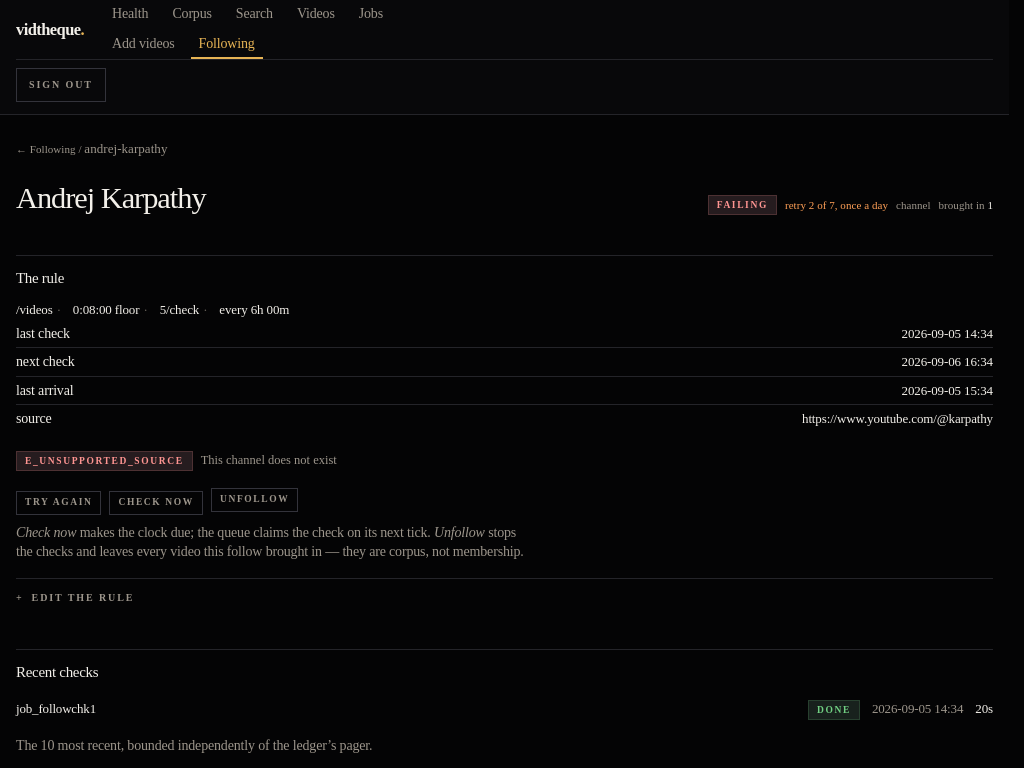
Test: one follow's page › the five writes › spells the retry out beside the state, and offers Check now to a retrying follow
Expected: the heading "Andrej Karpathy" is shown, [16,183,206,214]
Expected: the text "2026-09-06 16:34" is shown, [902,353,993,371]
Click the button "Check now": (156, 503) [109,491,203,515]
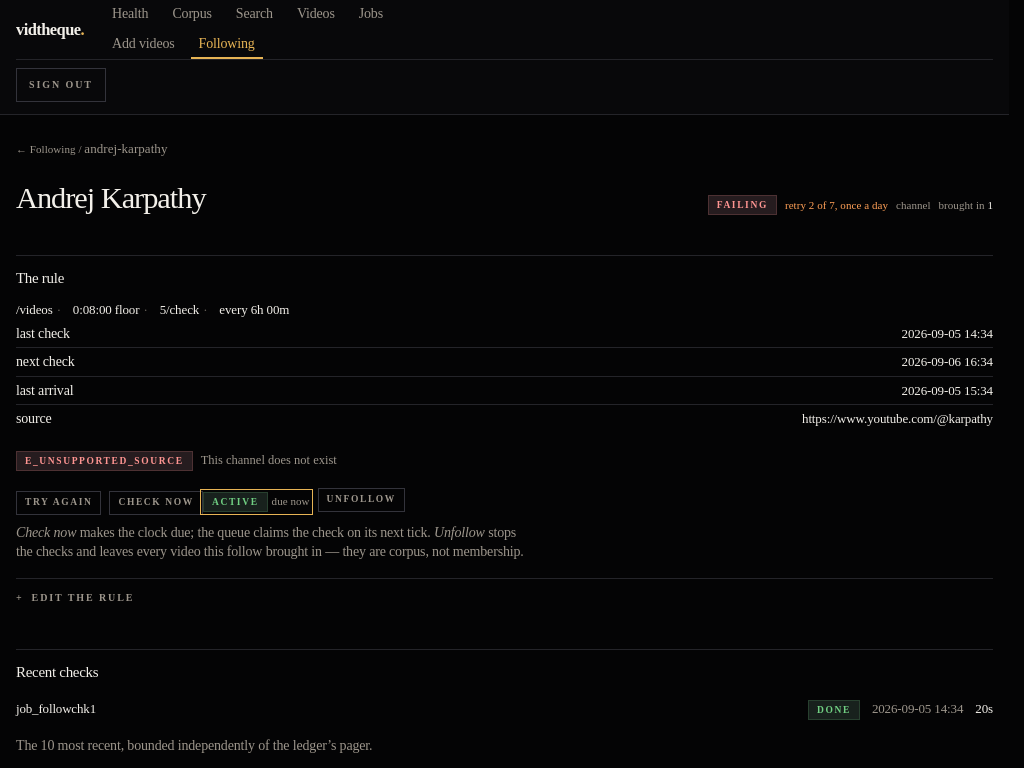
Now the text "due now" is shown, box [272,494,310,510]
